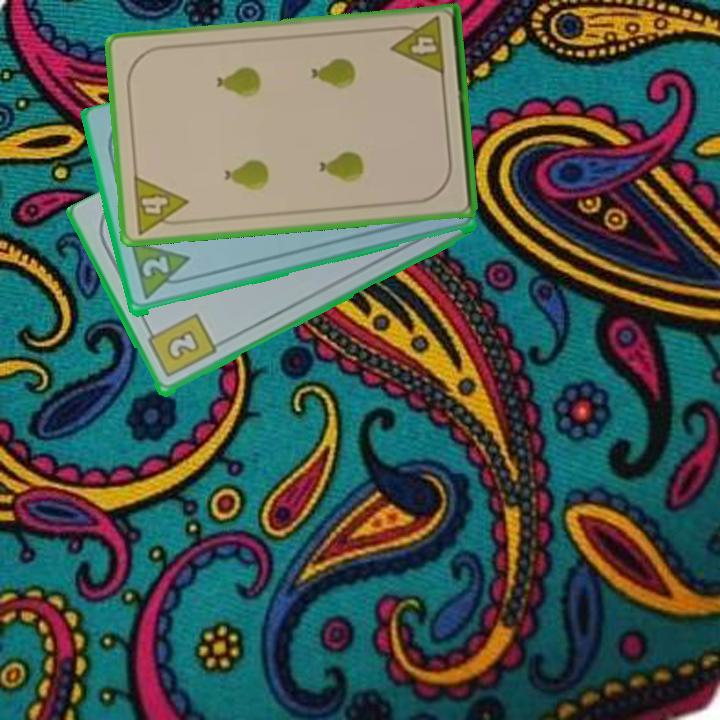2b: (143, 311, 219, 381)
2p: (138, 253, 172, 281)
4p: (129, 172, 192, 237), (387, 13, 448, 79)
